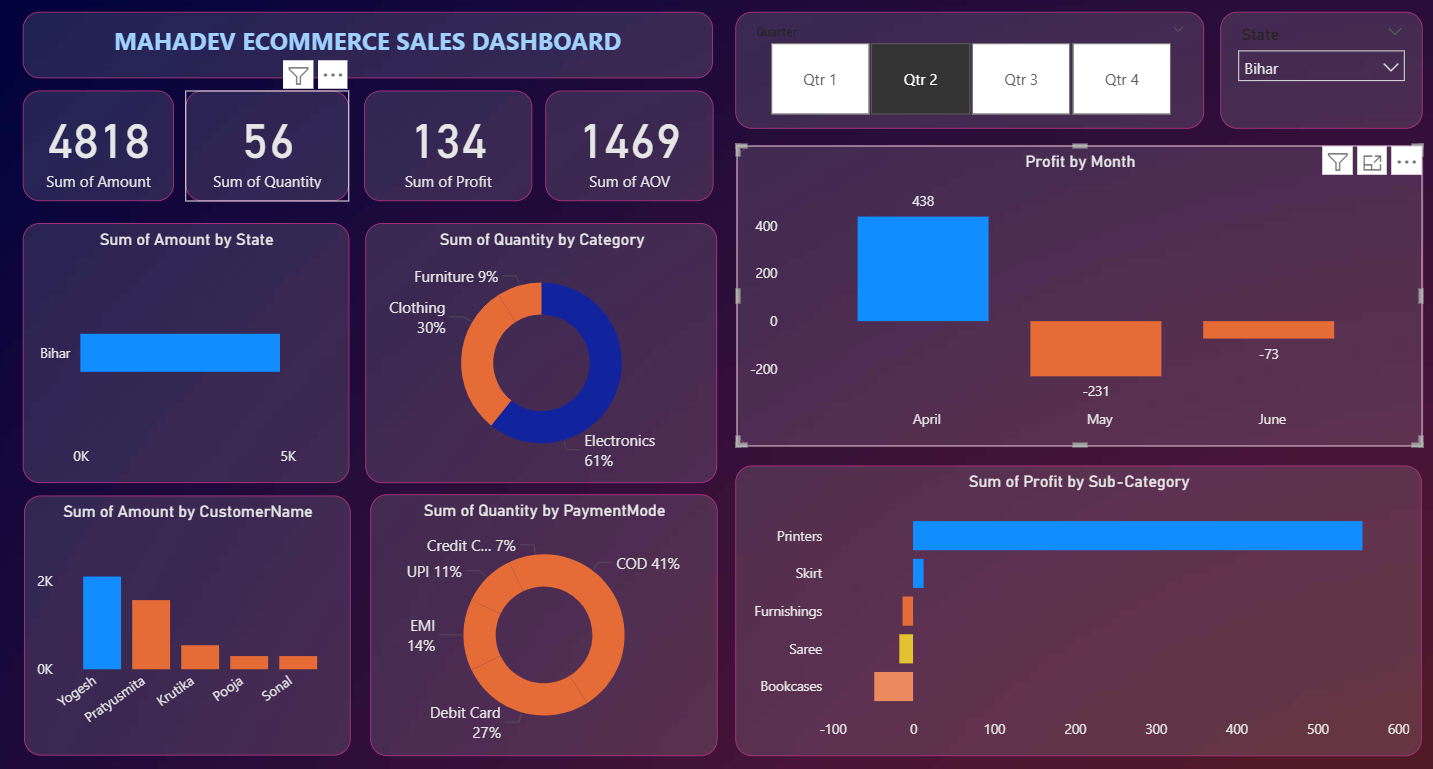

This screenshot's page, from the dashboard's own definition file:
{"tool":"powerbi","page":{"name":"Page 1","canvas":[1280,720],"ordinal":0},"visuals":[{"type":"textbox","box":[26.1,16.5,613.4,59],"z":0},{"type":"columnChart","title":"Profit by Month","fields":{"Category":["Orders.Order Date.Variation.Date Hierarchy.Month"],"Y":["Details.Profit"]},"box":[660,135.7,610,267.1],"z":1000},{"type":"barChart","fields":{"Y":["Details.Profit"],"Category":["Details.Sub-Category"]},"box":[658.6,420,610,258.6],"z":2000},{"type":"donutChart","fields":{"Category":["Details.Category"],"Y":["Details.Quantity"]},"box":[330,204.3,312.9,231.4],"z":3000},{"type":"donutChart","fields":{"Category":["Details.PaymentMode"],"Y":["Details.Quantity"]},"box":[334.3,445.7,308.6,232.9],"z":4000},{"type":"card","fields":{"Values":["Details.Amount"]},"box":[26.1,86.4,134.5,98.8],"z":5000},{"type":"card","fields":{"Values":["Details.Quantity"]},"box":[170.2,86.4,145.5,98.8],"z":6000},{"type":"card","fields":{"Values":["Details.Profit"]},"box":[329.3,86.4,149.6,98.8],"z":7000},{"type":"card","fields":{"Values":["Details.AOV"]},"box":[489.9,86.4,149.6,98.8],"z":8000},{"type":"barChart","fields":{"Y":["Details.Amount"],"Category":["Orders.State"]},"box":[25.7,204.3,290,231.4],"z":9000},{"type":"columnChart","fields":{"Category":["Orders.CustomerName"],"Y":["Details.Amount"]},"box":[26.2,446.2,290,231.2],"z":10000},{"type":"slicer","fields":{"Values":["Orders.Order Date.Variation.Date Hierarchy.Quarter"]},"box":[658.6,17.1,417.1,104.3],"z":11000},{"type":"slicer","fields":{"Values":["Orders.State"]},"box":[1090,17.1,180,104.3],"z":11001}]}

Visuals, with their boxes on the page's 1280x720 design canvas (x1, y1, x2, y2). These are canvas units, not pixel positions in the 1433x769 screenshot, which may show the page scaled, cropped or inside an application window:
textbox: 26/16/640/76
"Profit by Month" columnChart: 660/136/1270/403
barChart - Details.Profit x Details.Sub-Category: 659/420/1269/679
donutChart - Details.Category x Details.Quantity: 330/204/643/436
donutChart - Details.PaymentMode x Details.Quantity: 334/446/643/679
card - Details.Amount: 26/86/161/185
card - Details.Quantity: 170/86/316/185
card - Details.Profit: 329/86/479/185
card - Details.AOV: 490/86/640/185
barChart - Details.Amount x Orders.State: 26/204/316/436
columnChart - Orders.CustomerName x Details.Amount: 26/446/316/677
slicer - Orders.Order Date.Variation.Date Hierarchy.Quarter: 659/17/1076/121
slicer - Orders.State: 1090/17/1270/121
